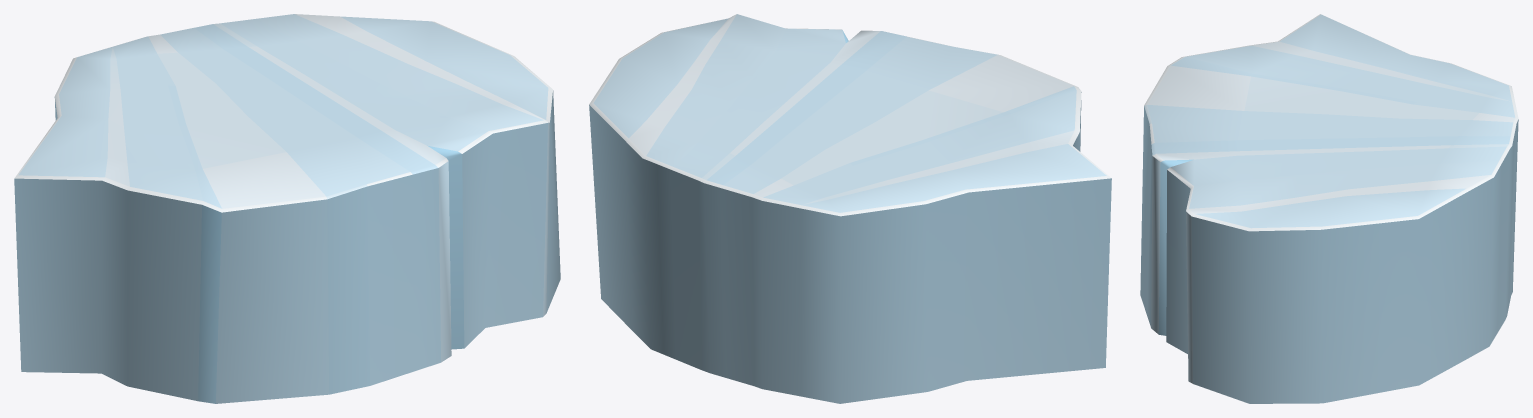
The model's file is Ice berg.fbx.
3 renders of one model, left to right at view 1: azimuth 30°, elevation 25°; view 2: azimuth 150°, elevation 25°; view 3: azimuth 270°, elevation 25°, orthographic. The views are drawn at different scales.
Parts seen in each view (by area): view 1: Ice berg; view 2: Ice berg; view 3: Ice berg.
Boxes of the visible parts, left/top/right/bottom form: Ice berg: left=14, top=14, right=560, bottom=403; Ice berg: left=589, top=14, right=1111, bottom=403; Ice berg: left=1140, top=14, right=1518, bottom=403.
Bounding box in the file's own units: 9.4 × 3.56 × 6.89.
